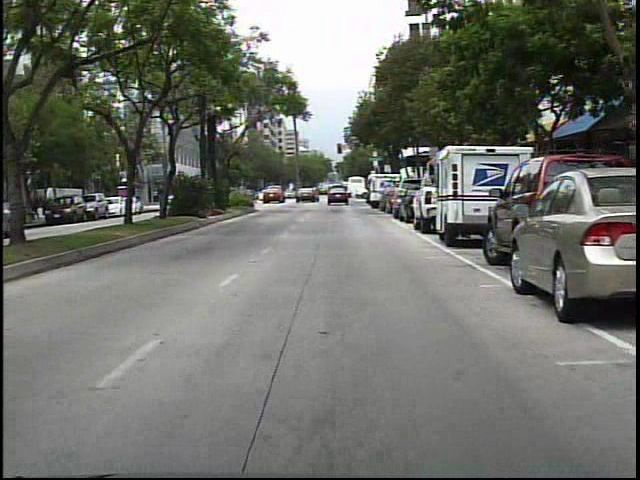person: (323, 183, 337, 203), (292, 183, 297, 202)
